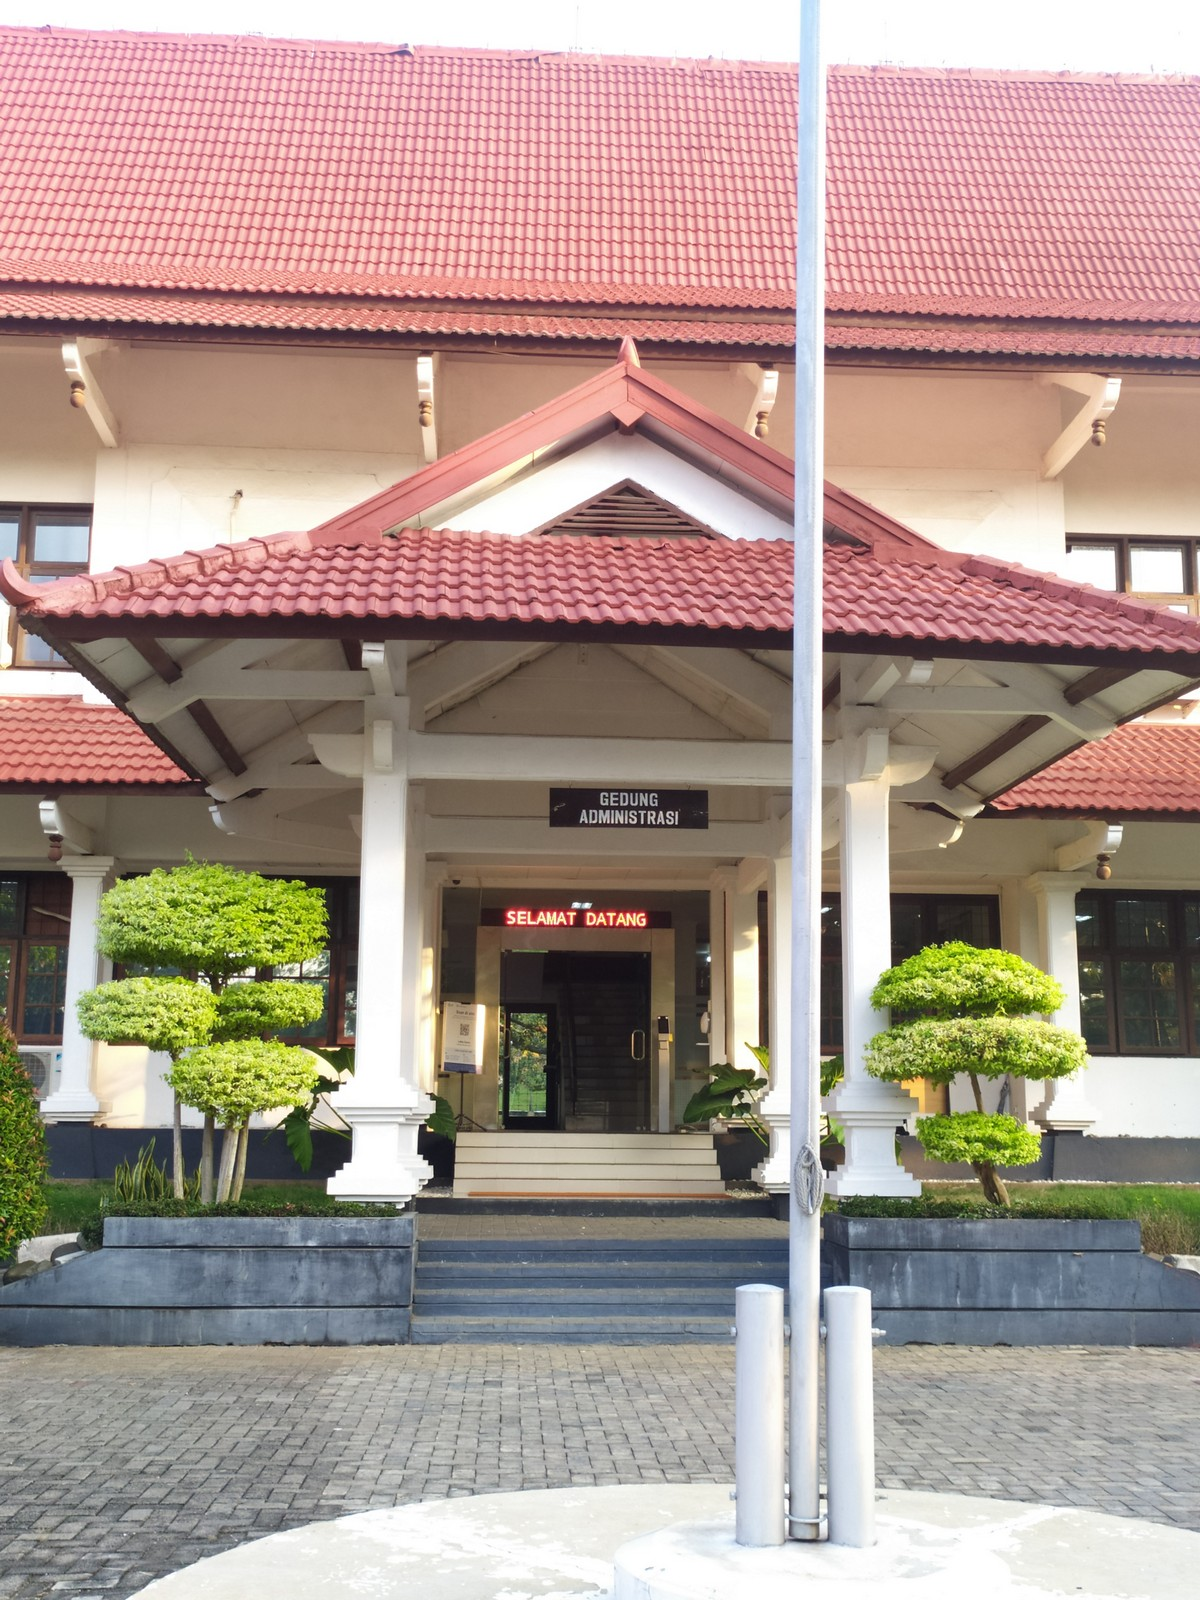concrete beam: (400, 724, 824, 796), (205, 663, 358, 707)
concrete column: (355, 760, 418, 1089), (837, 775, 904, 1078), (53, 862, 117, 1110)
